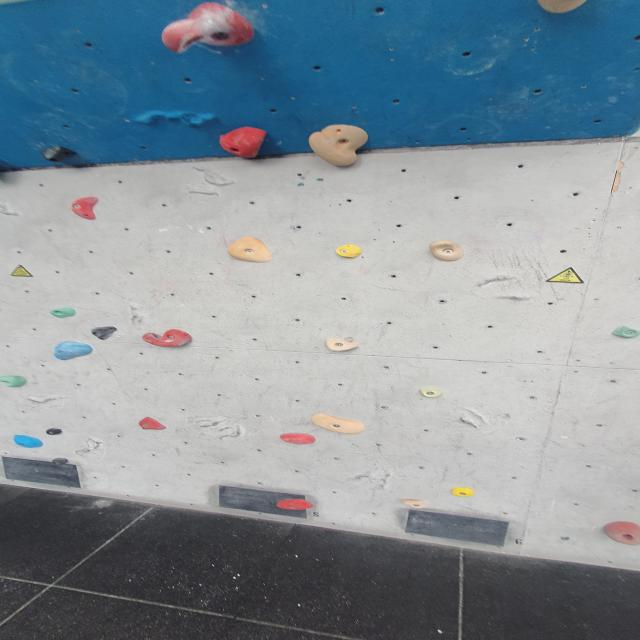Crimp: (311, 416, 368, 436), (53, 342, 95, 361), (324, 339, 360, 353), (274, 498, 314, 510), (278, 434, 316, 446), (334, 245, 364, 260), (13, 437, 46, 450), (137, 418, 167, 432), (613, 328, 640, 342), (418, 388, 445, 398), (449, 488, 476, 498)
Jug: (161, 3, 257, 49), (308, 126, 372, 170), (217, 128, 270, 160), (225, 236, 272, 263), (142, 331, 195, 349), (600, 522, 639, 546), (426, 240, 465, 261)
Pinch: (68, 197, 102, 221)
